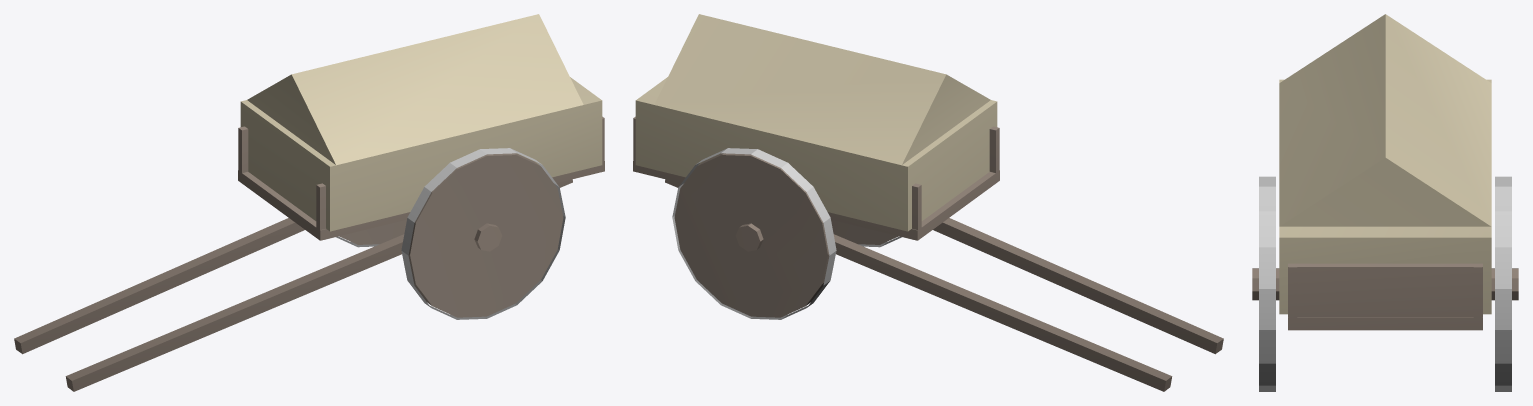
Rendered from cart_3.glb.
3 views of the same model, side by side, from view 1: azimuth 30°, elevation 25°; view 2: azimuth 150°, elevation 25°; view 3: azimuth 270°, elevation 25° (orthographic). The views are drawn at different scales.
Visible parts, largest first — view 1: cart_3; view 2: cart_3; view 3: cart_3.
Boxes of the visible parts, <box> form: cart_3: <box>14,14,604,391</box>; cart_3: <box>633,14,1223,391</box>; cart_3: <box>1252,14,1518,391</box>.
Size of the model in its own units: 4.21 by 1.86 by 1.57.
